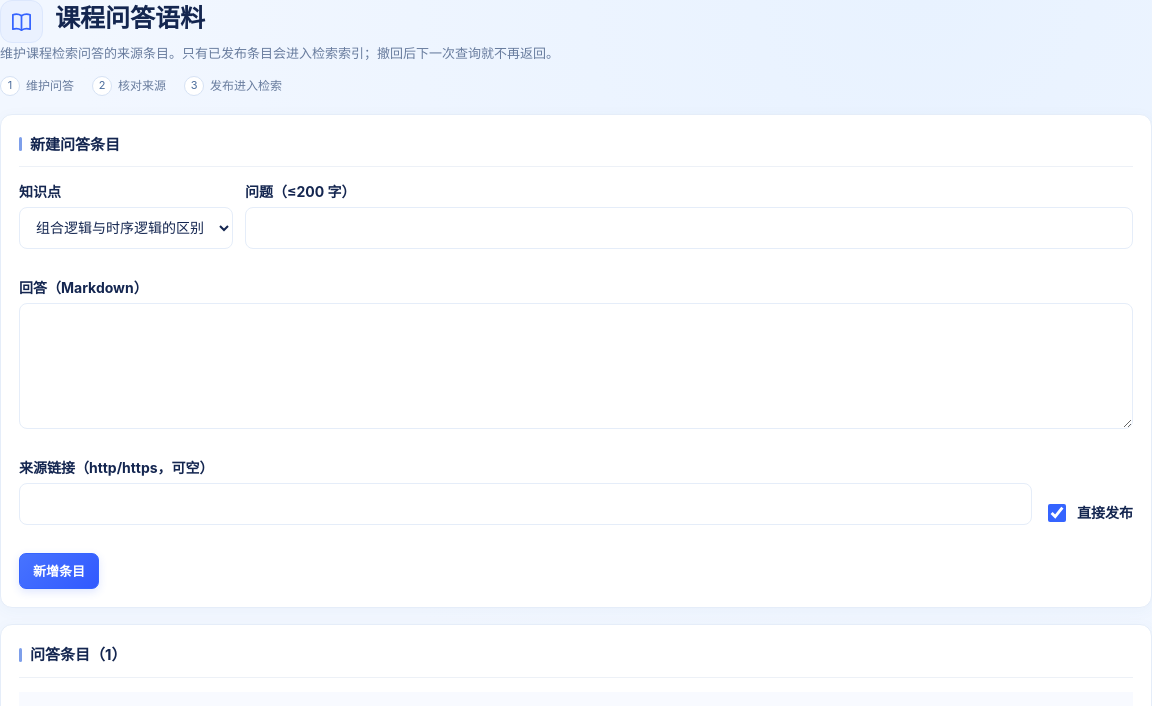
it: 教师问答语料页 › 新增条目只提交可写字段，并显示成功提示
The image size is (1152, 706).
Select "时钟信号与有效时钟沿" in the dropdown labelled "知识点": (126, 228) [19,207,233,249]
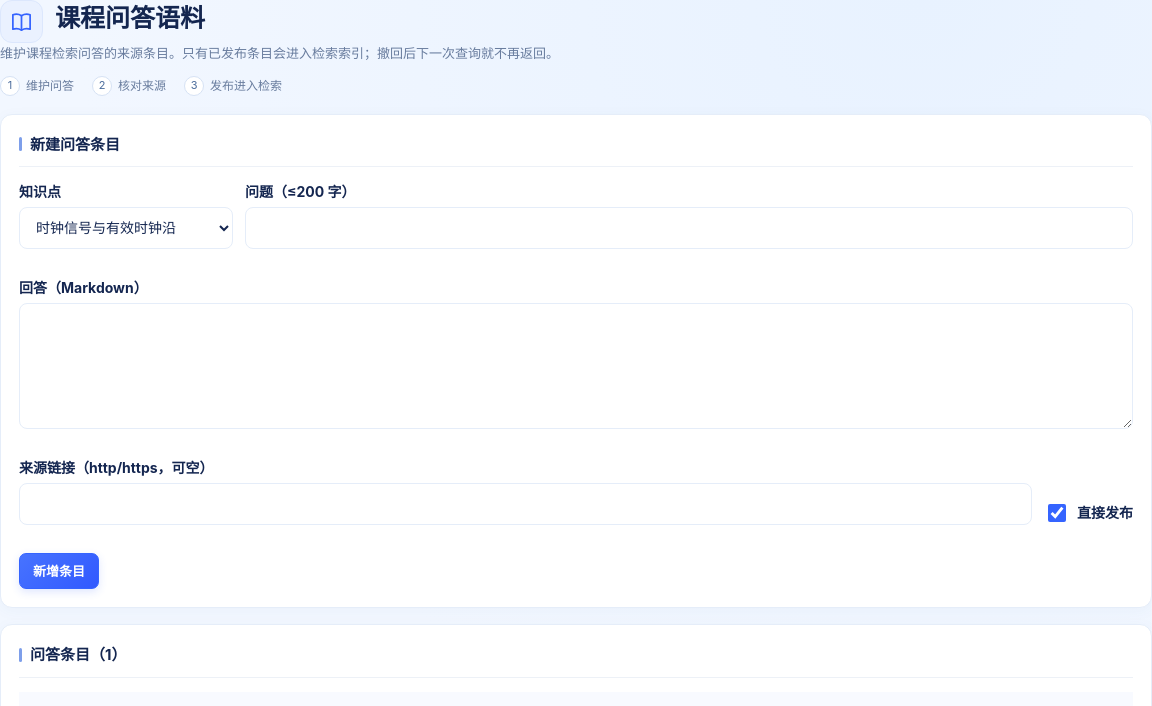
In the field labelled "问题（≤200 字）": (689, 228) [245,207,1133,249], type "时钟沿有什么作用？"
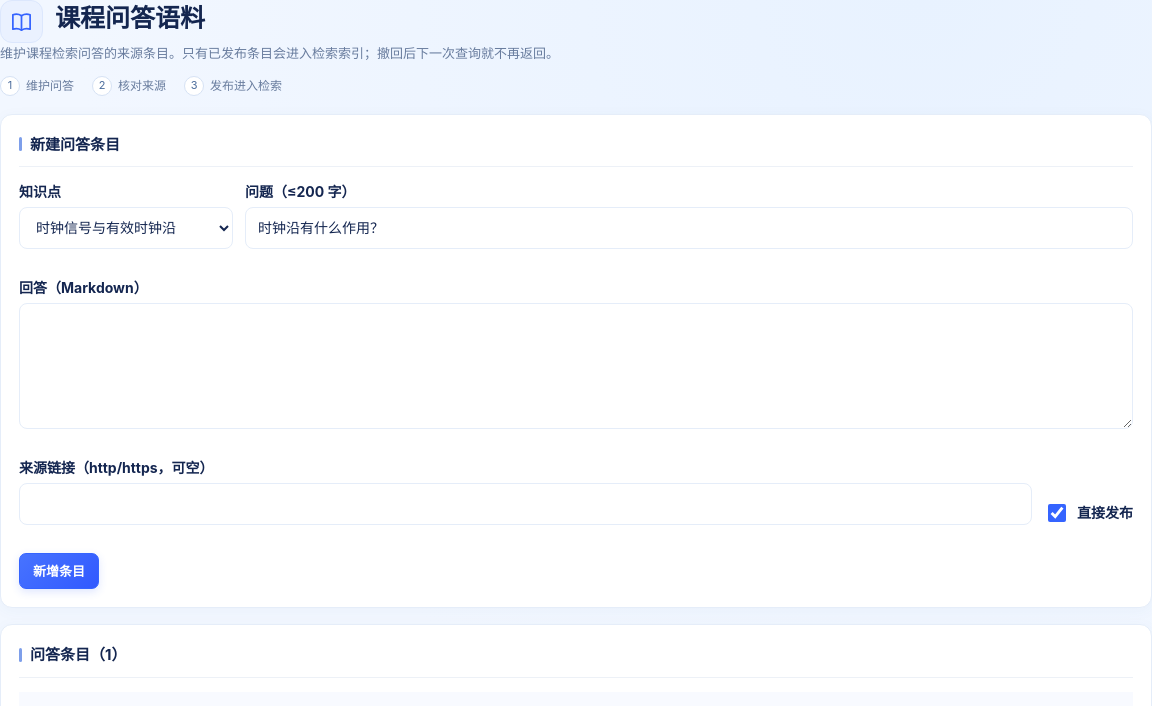
In the text box labelled "回答（Markdown）": (576, 366) [19,303,1133,429], type "状态只在有效上升沿更新。"
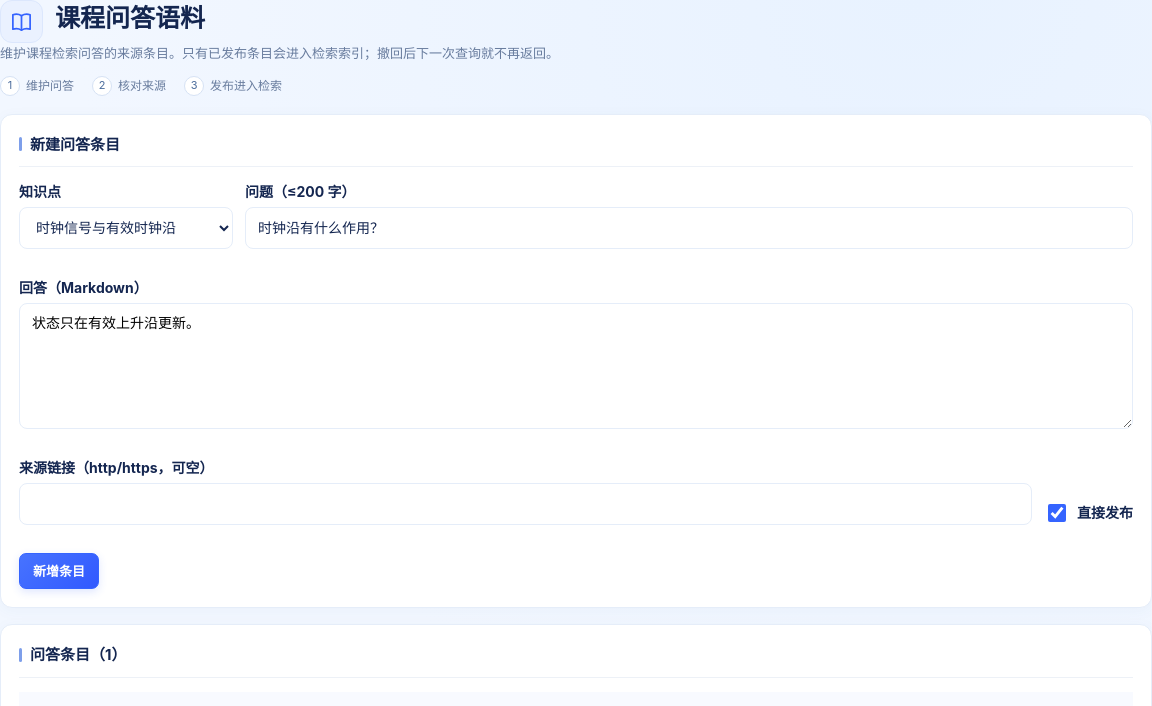
Submit the form, box [19,181,1133,589]
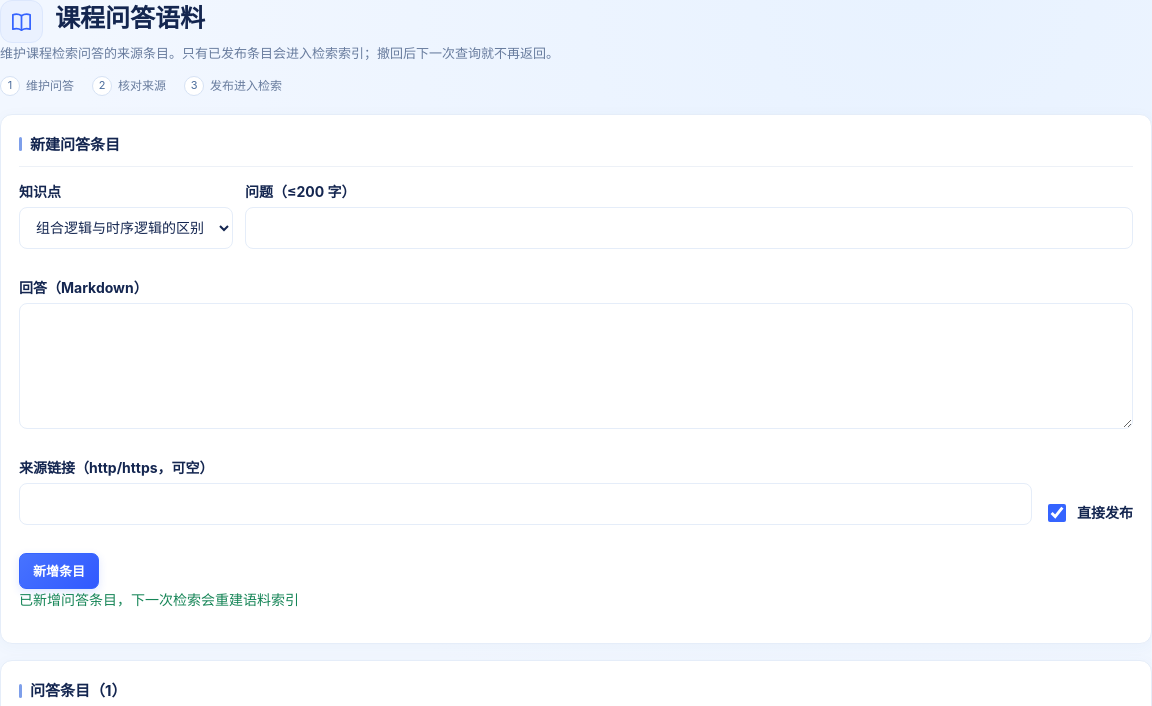
Now the text "已新增问答条目" is shown, box [19,592,299,608]
